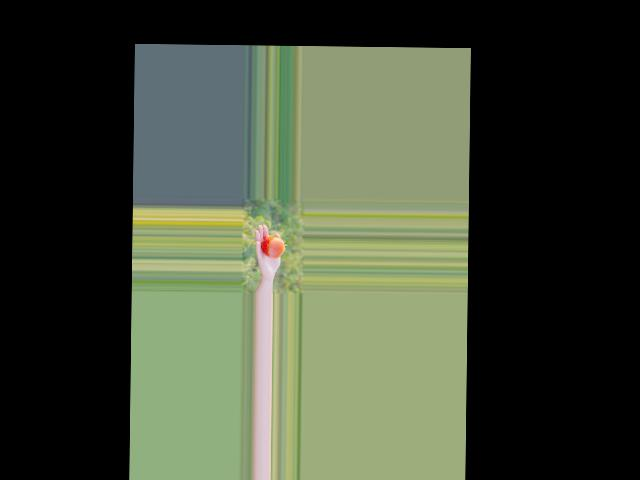tomato: (260, 236, 284, 257)
